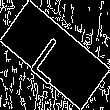L_NE: (30, 26, 80, 84)
